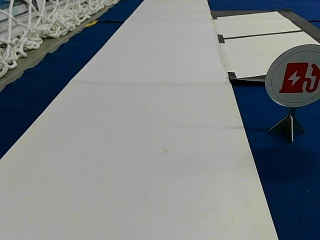battery: (265, 42, 319, 108)
